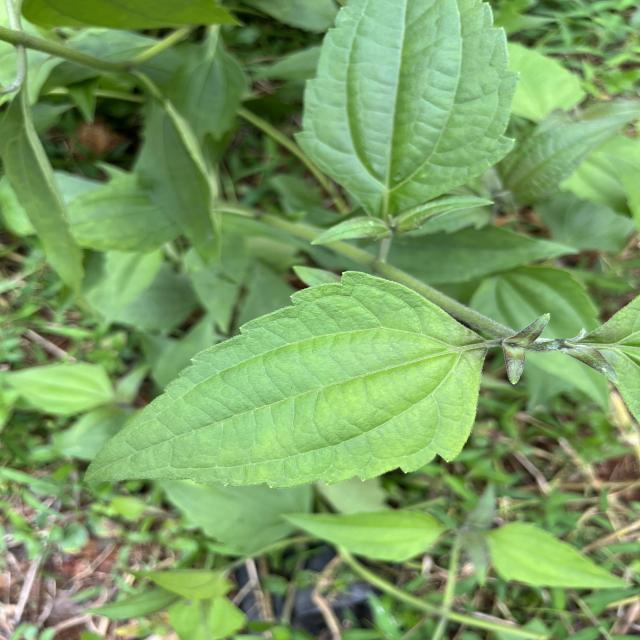Chromolaena odorata: (79, 264, 494, 494)
